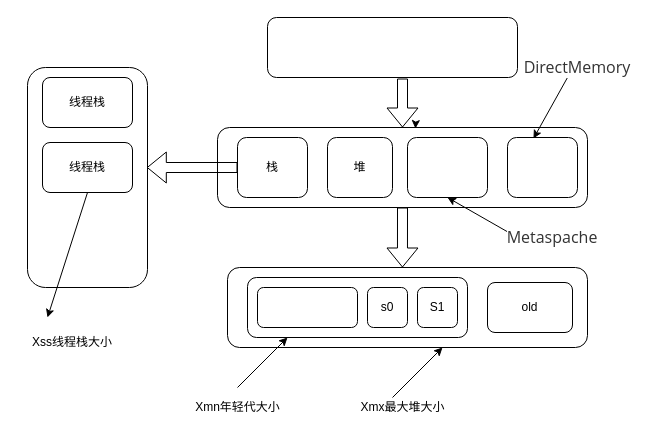
Image size: 648x435. Some labels were removed from this diagram. Here are the shapes that lost their labels. From the top down, the centre of each, then its label:
At (x=392, y=47): "jvm进程".
At (x=447, y=167): "非堆".
At (x=542, y=167): "jvm自身".
At (x=307, y=307): "eden".
